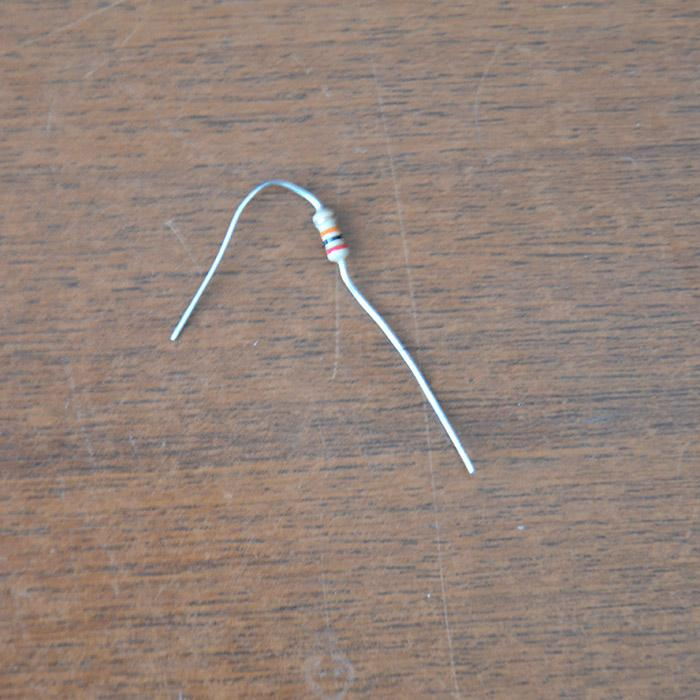resistor: (311, 206, 347, 264)
